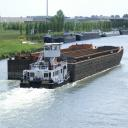tugboat: (20, 43, 72, 92)
